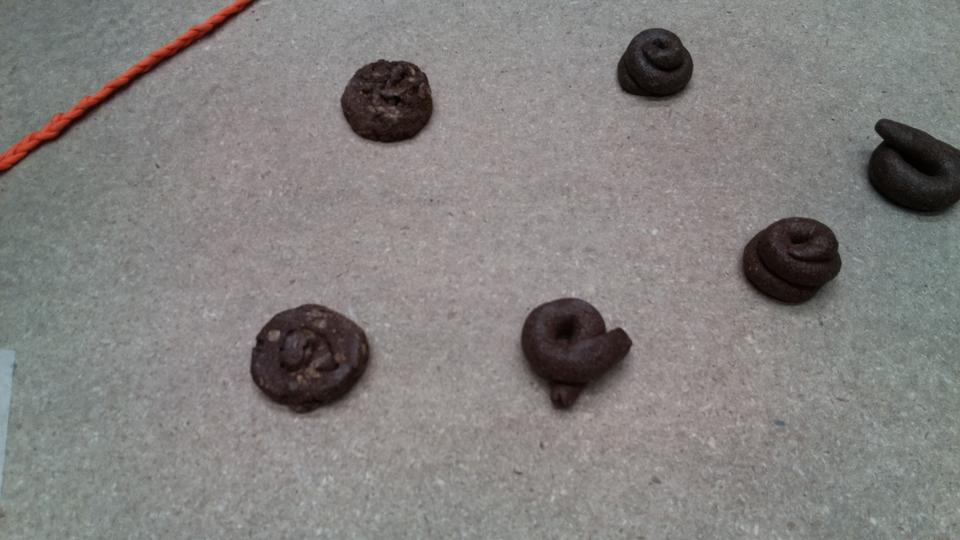poop: (248, 301, 378, 419), (523, 296, 637, 407), (865, 115, 960, 216), (739, 215, 842, 307), (334, 59, 439, 145), (616, 25, 699, 102)
rope: (69, 64, 144, 138), (133, 26, 223, 87), (4, 114, 77, 187), (173, 1, 251, 51)
